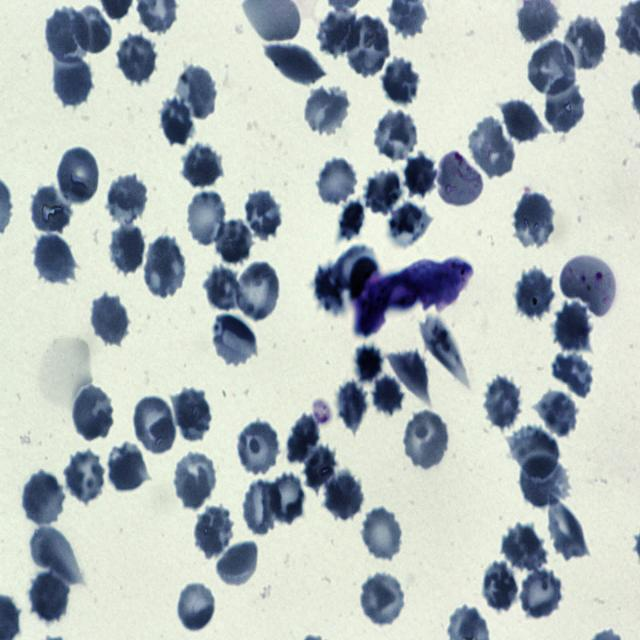red blood cell: (28, 524, 82, 585), (419, 318, 468, 384), (467, 117, 516, 180), (235, 259, 282, 323), (344, 16, 391, 78), (527, 39, 577, 97), (403, 409, 450, 470), (132, 395, 178, 457), (384, 349, 432, 408), (562, 13, 609, 73), (547, 494, 589, 561), (235, 420, 282, 478), (303, 80, 351, 136), (511, 192, 557, 250), (211, 312, 257, 370), (143, 238, 187, 297), (56, 147, 100, 205), (520, 455, 571, 505), (264, 42, 326, 83), (359, 573, 406, 627), (173, 449, 216, 508), (544, 78, 588, 135), (185, 188, 227, 247), (21, 470, 65, 526), (360, 505, 404, 561), (512, 427, 562, 476), (518, 567, 566, 618), (373, 109, 419, 162), (72, 385, 115, 441), (107, 172, 150, 228), (240, 479, 282, 536), (176, 63, 218, 119), (316, 155, 360, 208), (216, 539, 262, 589), (386, 198, 432, 248), (33, 233, 76, 286), (266, 472, 306, 528), (64, 451, 105, 505), (46, 8, 87, 62), (516, 267, 555, 323), (52, 52, 92, 106), (28, 185, 72, 234), (481, 561, 521, 614), (380, 55, 420, 108), (534, 391, 579, 438), (502, 524, 544, 574), (90, 292, 128, 347), (194, 507, 234, 559), (181, 141, 224, 189), (116, 34, 158, 83), (302, 445, 340, 499), (71, 4, 112, 54), (30, 571, 70, 622), (174, 387, 211, 441), (483, 377, 522, 428), (285, 412, 321, 466), (202, 264, 244, 310), (552, 352, 594, 398), (245, 188, 282, 240), (554, 303, 594, 351), (326, 472, 364, 522), (212, 219, 254, 264), (502, 98, 542, 145), (366, 168, 406, 215), (178, 584, 216, 633), (110, 444, 148, 493), (110, 224, 146, 274), (158, 98, 194, 148), (319, 7, 356, 55), (338, 381, 368, 435), (403, 152, 438, 198), (372, 375, 404, 416), (354, 342, 385, 384)
ring: (560, 254, 616, 318), (436, 149, 484, 209)
